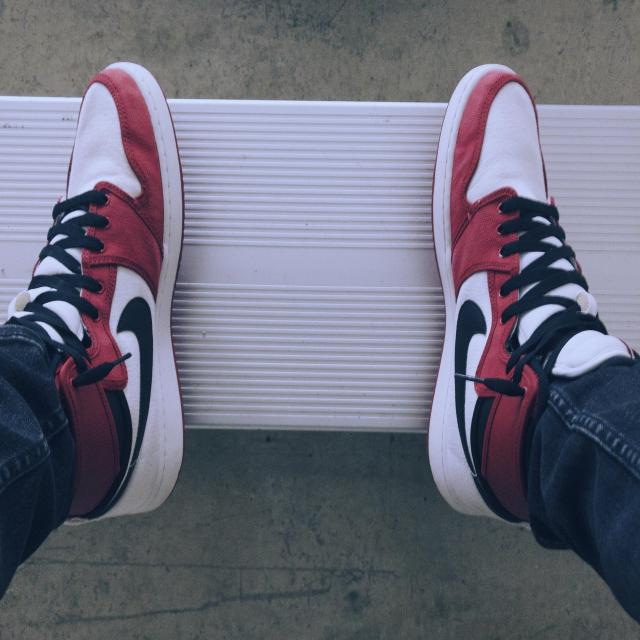shoe: (412, 54, 614, 538), (24, 62, 188, 528)
